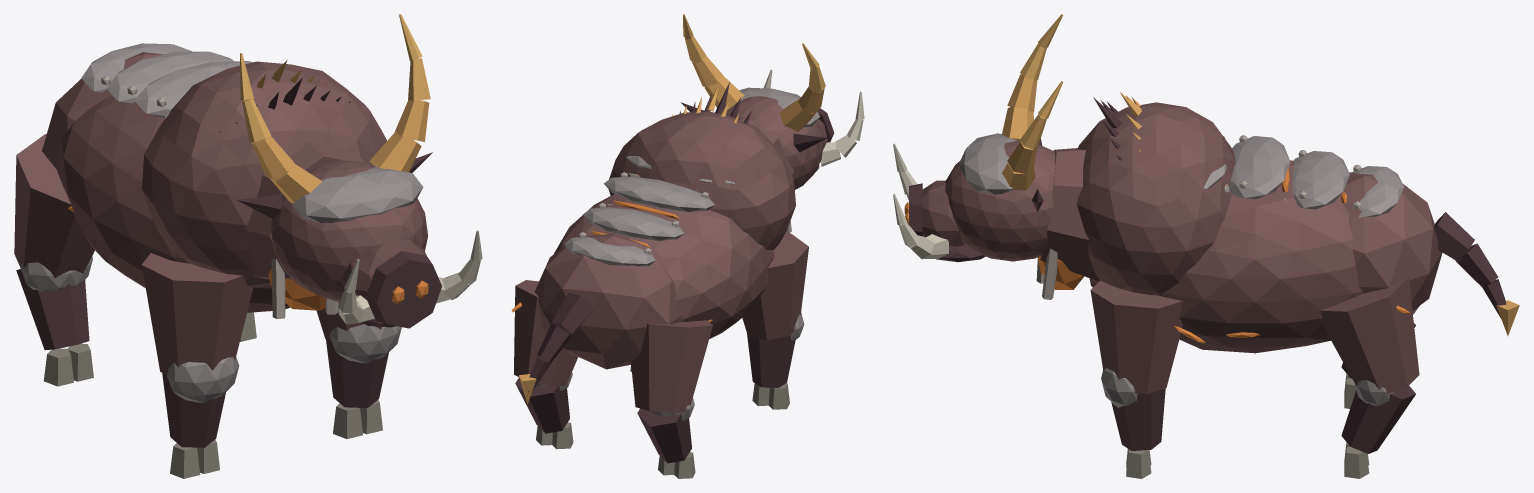
File: boss_ashen_warden.glb
3 views of the same model, side by side, from view 1: azimuth 30°, elevation 25°; view 2: azimuth 150°, elevation 25°; view 3: azimuth 270°, elevation 25° (orthographic). The views are drawn at different scales.
Visible parts, largest first — view 1: boss_ashen_warden; view 2: boss_ashen_warden; view 3: boss_ashen_warden.
Boxes of the visible parts, x1=… form: boss_ashen_warden: x1=14, y1=14, x2=482, y2=478; boss_ashen_warden: x1=511, y1=14, x2=864, y2=478; boss_ashen_warden: x1=893, y1=14, x2=1519, y2=478.
Size of the model in its own units: 2.51 by 4.31 by 6.33.
